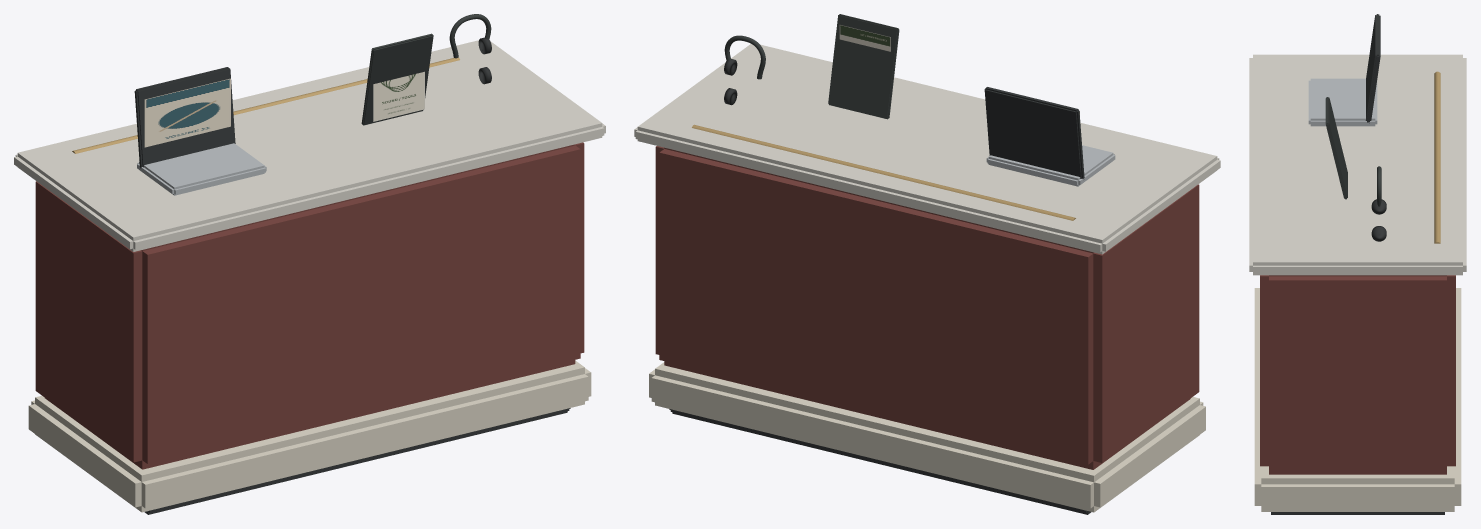
The model's file is collection_v29_electronics_1.glb.
3 views of the same model, side by side, from view 1: azimuth 30°, elevation 25°; view 2: azimuth 150°, elevation 25°; view 3: azimuth 270°, elevation 25° (orthographic). The views are drawn at different scales.
Visible parts, largest first — view 1: collection_v29_electronics_1_V29_oxblood_lacquer, collection_v29_electronics_1_Honed_solid_surface, collection_v29_electronics_1_V29_ivory_lacquer, collection_v29_electronics_1_FY21_original_packaging.001, collection_v29_electronics_1_Brushed_stainless.004, collection_v29_electronics_1_Anodised_graphite.011, collection_v29_electronics_1_V23_ceramic_graphite.010, collection_v29_electronics_1_V23_original_editorial.001, collection_v29_electronics_1_Anodised_graphite, collection_v29_electronics_1_Satin_champagne; view 2: collection_v29_electronics_1_V29_oxblood_lacquer, collection_v29_electronics_1_Honed_solid_surface, collection_v29_electronics_1_V29_ivory_lacquer, collection_v29_electronics_1_Anodised_graphite.011, collection_v29_electronics_1_V23_ceramic_graphite.010, collection_v29_electronics_1_Anodised_graphite, collection_v29_electronics_1_Brushed_stainless.004, collection_v29_electronics_1_Satin_champagne, collection_v29_electronics_1_V23_original_editorial.001; view 3: collection_v29_electronics_1_Honed_solid_surface, collection_v29_electronics_1_V29_oxblood_lacquer, collection_v29_electronics_1_V29_ivory_lacquer, collection_v29_electronics_1_Brushed_stainless.004, collection_v29_electronics_1_Satin_champagne, collection_v29_electronics_1_Anodised_graphite.011, collection_v29_electronics_1_V23_ceramic_graphite.010, collection_v29_electronics_1_Anodised_graphite, collection_v29_electronics_1_V23_shoe_rubber.001.
Boxes of the visible parts, x1,y1,x2,y2 form: collection_v29_electronics_1_V29_oxblood_lacquer: [35, 142, 584, 469]; collection_v29_electronics_1_Honed_solid_surface: [14, 40, 605, 251]; collection_v29_electronics_1_V29_ivory_lacquer: [28, 360, 591, 512]; collection_v29_electronics_1_FY21_original_packaging.001: [144, 78, 230, 147]; collection_v29_electronics_1_Brushed_stainless.004: [137, 143, 266, 195]; collection_v29_electronics_1_Anodised_graphite.011: [134, 67, 235, 168]; collection_v29_electronics_1_V23_ceramic_graphite.010: [361, 33, 433, 125]; collection_v29_electronics_1_V23_original_editorial.001: [373, 71, 424, 121]; collection_v29_electronics_1_Anodised_graphite: [144, 408, 570, 514]; collection_v29_electronics_1_Satin_champagne: [72, 57, 459, 153]; collection_v29_electronics_1_V29_oxblood_lacquer: [655, 146, 1199, 469]; collection_v29_electronics_1_Honed_solid_surface: [634, 44, 1220, 254]; collection_v29_electronics_1_V29_ivory_lacquer: [649, 362, 1205, 512]; collection_v29_electronics_1_Anodised_graphite.011: [984, 87, 1084, 179]; collection_v29_electronics_1_V23_ceramic_graphite.010: [828, 14, 899, 119]; collection_v29_electronics_1_Anodised_graphite: [669, 409, 1091, 514]; collection_v29_electronics_1_Brushed_stainless.004: [986, 145, 1115, 186]; collection_v29_electronics_1_Satin_champagne: [692, 124, 1075, 220]; collection_v29_electronics_1_V23_original_editorial.001: [839, 25, 890, 51]; collection_v29_electronics_1_Honed_solid_surface: [1249, 54, 1466, 275]; collection_v29_electronics_1_V29_oxblood_lacquer: [1260, 275, 1455, 474]; collection_v29_electronics_1_V29_ivory_lacquer: [1254, 288, 1461, 511]; collection_v29_electronics_1_Brushed_stainless.004: [1308, 78, 1377, 126]; collection_v29_electronics_1_Satin_champagne: [1434, 71, 1440, 243]; collection_v29_electronics_1_Anodised_graphite.011: [1365, 14, 1380, 123]; collection_v29_electronics_1_V23_ceramic_graphite.010: [1325, 97, 1347, 199]; collection_v29_electronics_1_Anodised_graphite: [1271, 512, 1444, 514]; collection_v29_electronics_1_V23_shoe_rubber.001: [1371, 199, 1386, 241].
Size of the model in its own units: 1.88 by 1.44 by 0.82.
Materials: 12 (2 with a texture image).
